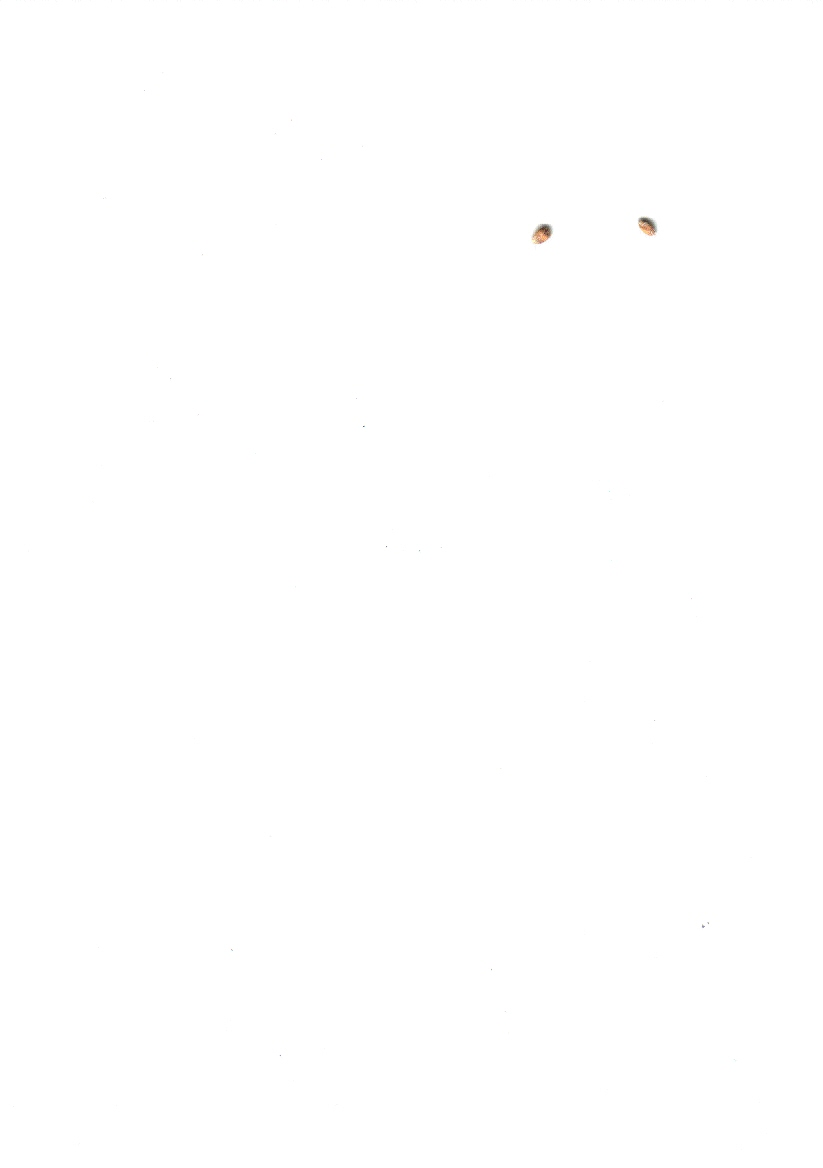grains: (516, 212, 568, 260), (624, 206, 670, 247)
